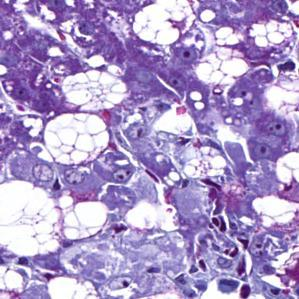ballooning: (4, 177, 67, 262), (41, 110, 113, 168), (59, 64, 131, 113), (131, 3, 198, 48), (192, 43, 251, 90), (62, 198, 111, 244), (248, 15, 295, 52)
